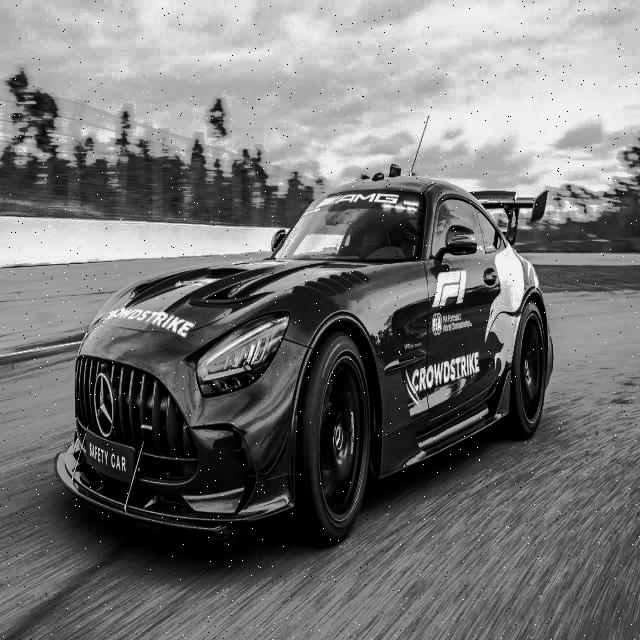Car: (56, 153, 564, 562)
